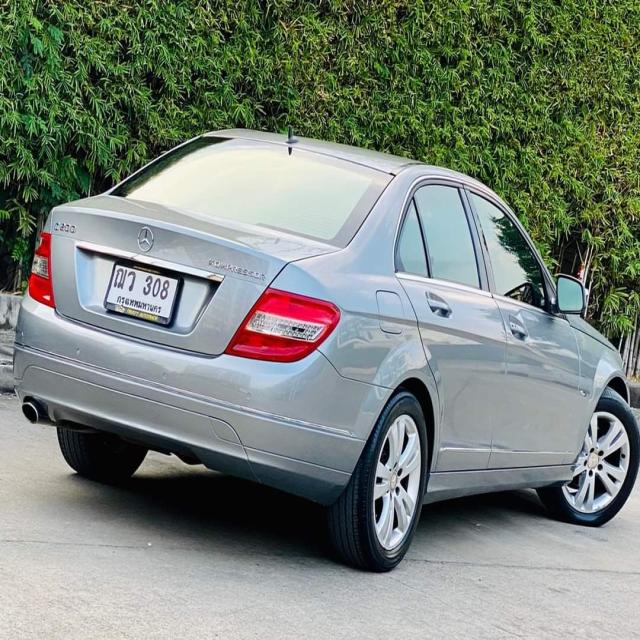license_plate: (101, 255, 185, 330)
